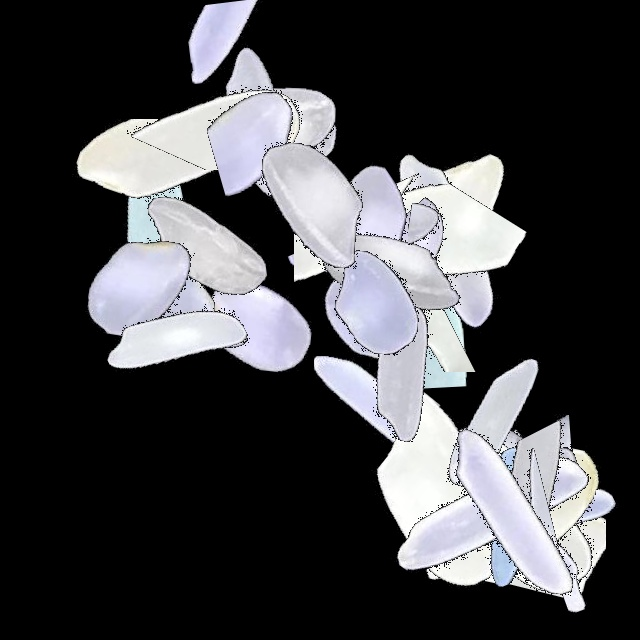Broken: (473, 390, 640, 640), (279, 234, 442, 484), (163, 52, 413, 209), (302, 184, 552, 338), (469, 390, 622, 640), (97, 19, 347, 170), (461, 390, 606, 640), (360, 163, 504, 413), (28, 119, 278, 259), (440, 358, 579, 608), (245, 226, 495, 357), (366, 198, 496, 448), (294, 147, 423, 397), (125, 0, 375, 119), (375, 139, 490, 389), (365, 448, 615, 560), (536, 390, 636, 640), (268, 272, 518, 372), (343, 401, 593, 500), (111, 338, 361, 437), (484, 320, 571, 570), (341, 155, 422, 405), (408, 108, 487, 358)
Full: (308, 116, 558, 366), (320, 115, 570, 365), (390, 390, 640, 640), (390, 361, 640, 611), (26, 119, 276, 369), (148, 0, 398, 250), (136, 200, 386, 450), (139, 0, 389, 250), (261, 291, 511, 541), (37, 169, 287, 419), (135, 0, 385, 250), (390, 372, 640, 622), (84, 121, 334, 371), (315, 368, 565, 618), (14, 164, 264, 414), (365, 296, 615, 546), (247, 192, 497, 442), (366, 390, 616, 640), (237, 103, 487, 353), (268, 145, 518, 395), (47, 214, 297, 464), (251, 176, 501, 426), (186, 81, 436, 331), (390, 389, 640, 639)
